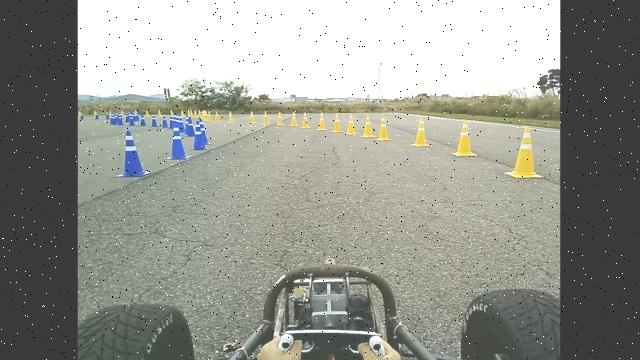blue cone: (115, 129, 152, 178), (165, 127, 191, 160), (184, 116, 195, 137)
yellow cone: (504, 125, 544, 179), (452, 119, 478, 157), (409, 116, 431, 147), (374, 116, 392, 141), (360, 113, 375, 138), (331, 112, 343, 132), (346, 113, 356, 135), (316, 112, 327, 131), (300, 112, 311, 128), (289, 110, 299, 126), (262, 110, 270, 125), (248, 110, 256, 124), (276, 111, 284, 125), (228, 110, 235, 123), (213, 111, 221, 122)
